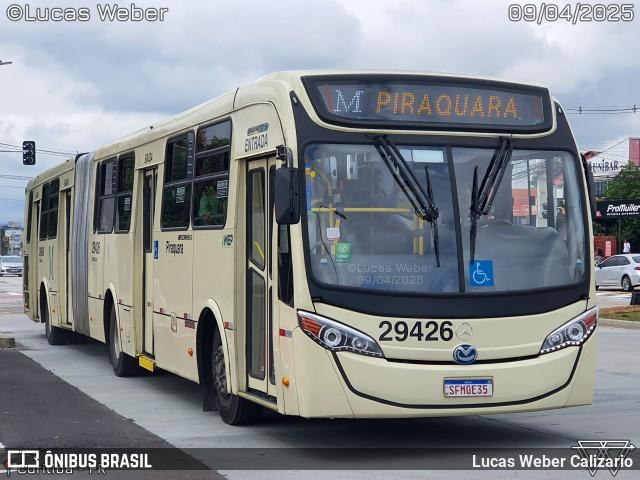PIRAQUARA: (370, 85, 521, 123)
